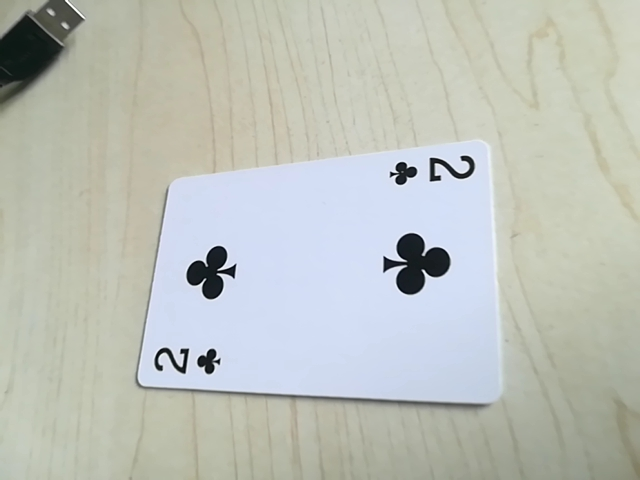mh 2: (382, 151, 480, 193), (146, 340, 230, 385)
